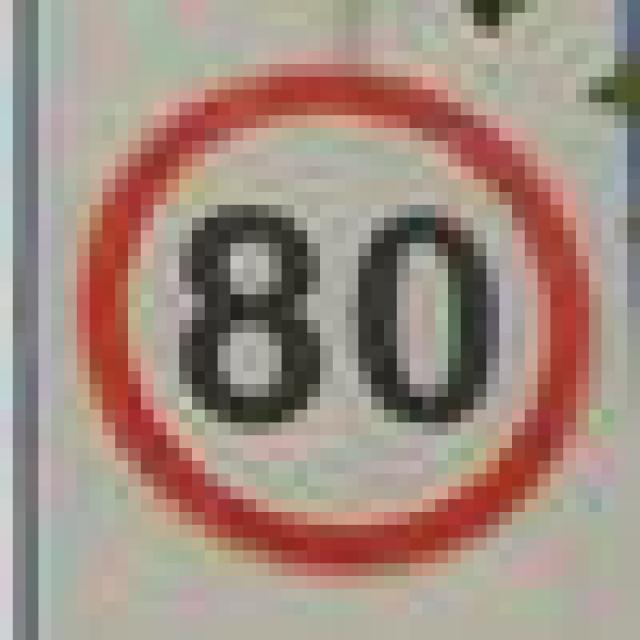SPEED_LIMIT_80: (64, 39, 589, 564)
